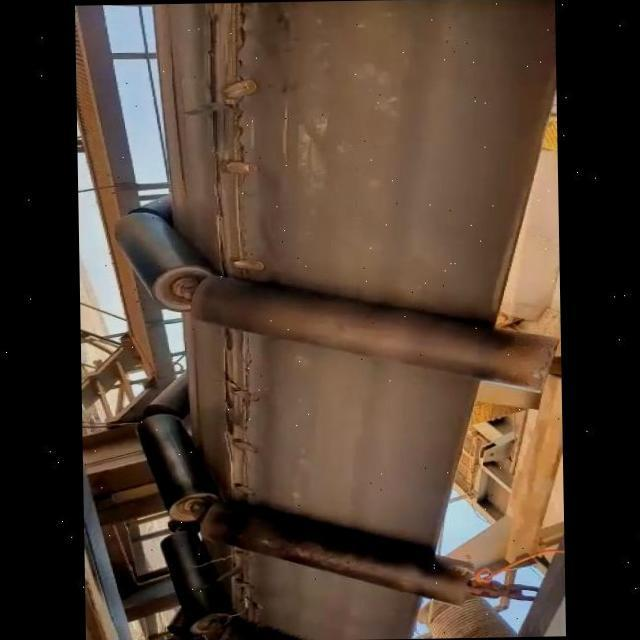Tear: (194, 2, 268, 280), (205, 327, 266, 490), (220, 543, 257, 631)
